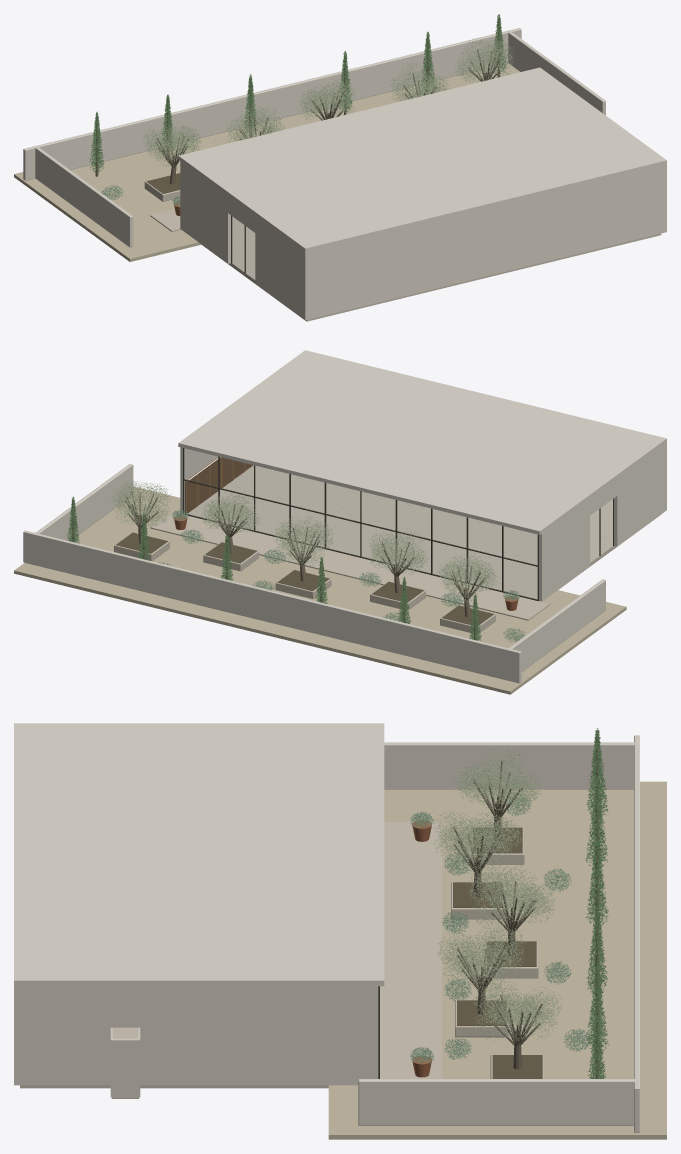
Rendered from Karats-R20-Chisel.glb.
The picture shows the model from 3 angles, top to bottom: view 1: azimuth 30°, elevation 25°; view 2: azimuth 150°, elevation 25°; view 3: azimuth 270°, elevation 25°; orthographic projection. The views are drawn at different scales.
Visible parts, largest first — view 1: ROOM_CEILING, NORTH_SOLID_WALL, SPANISH_LIME_BOUNDARY, EXTERIOR_GROUND, WEST_PLASTER, GARDEN_WEST_BOUNDARY, WEST_PLASTER.001, ROOM_FLOOR_30x18, GARDEN_EAST_BOUNDARY, OLIVE_CROWN_4, OLIVE_CROWN_0, OLIVE_CROWN_2 (+4 smaller); view 2: ROOM_CEILING, ROOM_FLOOR_30x18, EXTERIOR_GROUND, SPANISH_LIME_BOUNDARY, TERRACE, WEST_PLASTER, WEST_PLASTER.001, GARDEN_WEST_BOUNDARY, GARDEN_EAST_BOUNDARY, OLIVE_CROWN_2, OLIVE_CROWN_4, OLIVE_CROWN_0 (+9 smaller); view 3: ROOM_CEILING, EXTERIOR_GROUND, EAST_BRAND_WALL, TERRACE, GARDEN_EAST_BOUNDARY, GARDEN_WEST_BOUNDARY, EAST_RIGHT_WALL, OLIVE_CROWN_3, OLIVE_CROWN_2, OLIVE_CROWN_1, OLIVE_CROWN_0, OLIVE_CROWN_4 (+18 smaller).
Part boxes in pixels (x1,y1,x2,y2): ROOM_CEILING: (178, 67, 666, 252); NORTH_SOLID_WALL: (303, 164, 666, 320); SPANISH_LIME_BOUNDARY: (23, 28, 521, 180); EXTERIOR_GROUND: (14, 63, 520, 261); WEST_PLASTER: (180, 161, 230, 263); GARDEN_WEST_BOUNDARY: (35, 147, 133, 247); WEST_PLASTER.001: (255, 216, 303, 318); ROOM_FLOOR_30x18: (201, 216, 661, 321); GARDEN_EAST_BOUNDARY: (508, 31, 605, 115); OLIVE_CROWN_4: (454, 38, 514, 82); OLIVE_CROWN_0: (142, 125, 202, 166); OLIVE_CROWN_2: (296, 79, 356, 120); ROOM_CEILING: (178, 350, 666, 534); ROOM_FLOOR_30x18: (187, 465, 659, 599); EXTERIOR_GROUND: (14, 487, 626, 694); SPANISH_LIME_BOUNDARY: (23, 530, 521, 683); TERRACE: (150, 511, 550, 620); WEST_PLASTER: (539, 499, 589, 601); WEST_PLASTER.001: (614, 444, 664, 546); GARDEN_WEST_BOUNDARY: (508, 579, 605, 671); GARDEN_EAST_BOUNDARY: (35, 464, 133, 540); OLIVE_CROWN_2: (273, 516, 333, 566); OLIVE_CROWN_4: (111, 480, 172, 527); OLIVE_CROWN_0: (438, 555, 498, 603); ROOM_CEILING: (14, 723, 384, 986); EXTERIOR_GROUND: (328, 781, 666, 1139); EAST_BRAND_WALL: (139, 986, 378, 1085); TERRACE: (380, 822, 441, 1078); GARDEN_EAST_BOUNDARY: (358, 1079, 636, 1125); GARDEN_WEST_BOUNDARY: (384, 742, 634, 789); EAST_RIGHT_WALL: (20, 986, 111, 1085); OLIVE_CROWN_3: (437, 925, 526, 992); OLIVE_CROWN_2: (466, 865, 556, 928); OLIVE_CROWN_1: (434, 811, 522, 874); OLIVE_CROWN_0: (453, 745, 543, 812); OLIVE_CROWN_4: (473, 978, 561, 1040).
Size of the model in its own units: 42 by 6.15 by 32.8.
